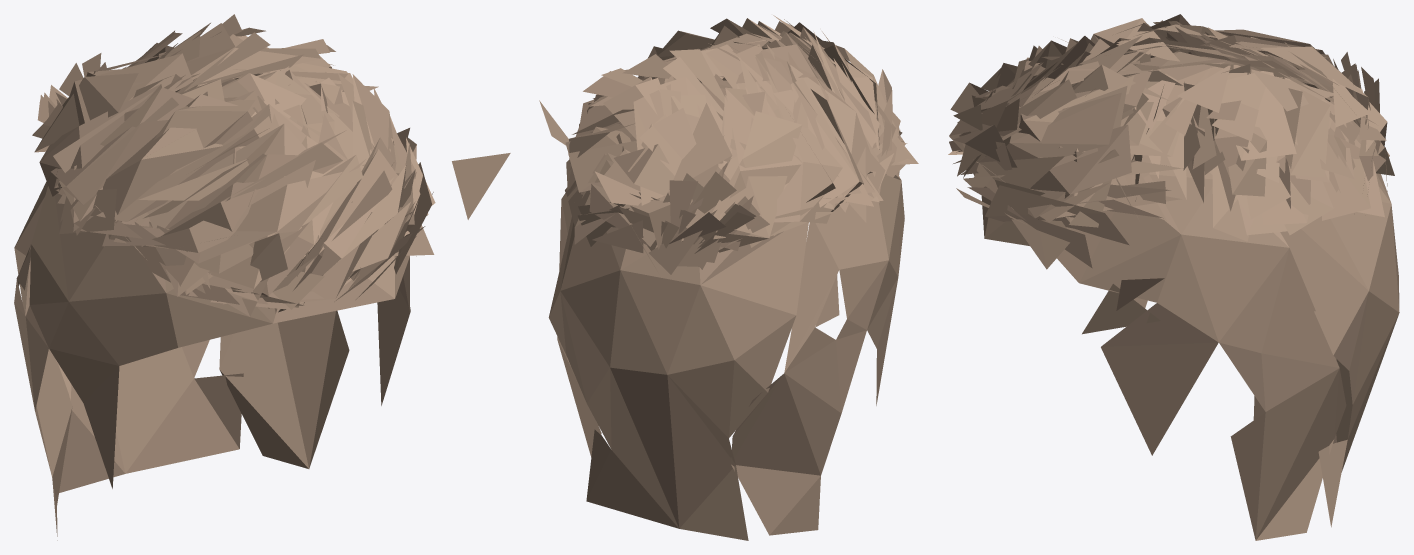
File: male_hair_06_lod2.glb
3 renders of one model, left to right at view 1: azimuth 30°, elevation 25°; view 2: azimuth 150°, elevation 25°; view 3: azimuth 270°, elevation 25°, orthographic. The views are drawn at different scales.
Visible parts, largest first — view 1: hair_06; view 2: hair_06; view 3: hair_06.
Boxes of the visible parts, x1,y1,x2,y2 form: hair_06: (14, 14, 510, 540); hair_06: (539, 15, 918, 540); hair_06: (948, 14, 1399, 540).
Size of the model in its own units: 0.1809 by 0.1963 by 0.175.
